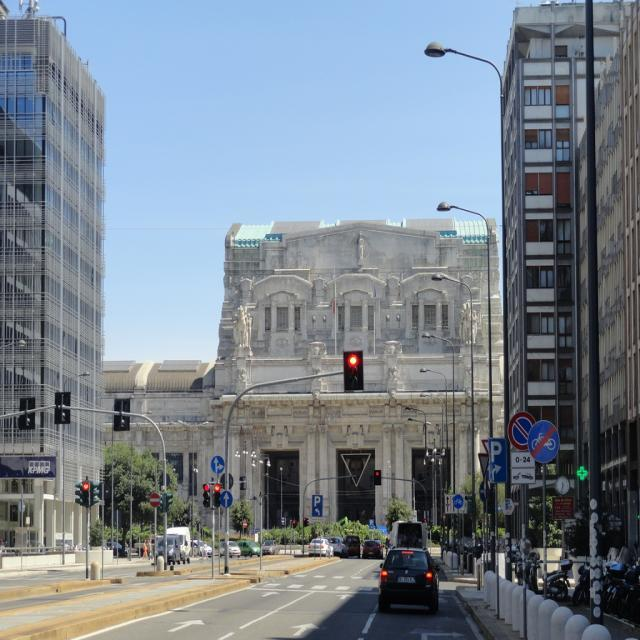off traffic light: (74, 481, 83, 506), (90, 481, 99, 506), (166, 492, 173, 511)
road_sign: (529, 422, 558, 461), (511, 410, 531, 447), (490, 439, 507, 464), (511, 467, 538, 481), (488, 464, 506, 481), (219, 492, 232, 508), (211, 456, 223, 472), (311, 492, 323, 507), (148, 491, 159, 507), (311, 505, 325, 517)
traffic light: (342, 350, 365, 391), (202, 485, 211, 509), (82, 481, 89, 507), (156, 492, 164, 512), (373, 469, 382, 485), (214, 484, 220, 506)
